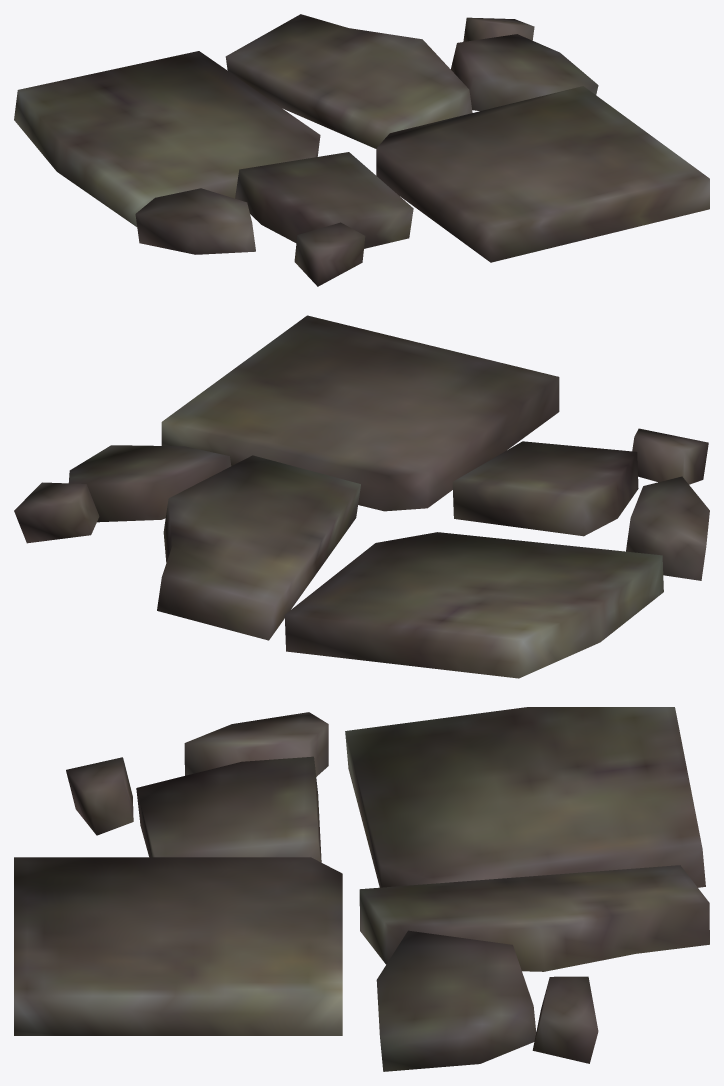
File: Rocks_306.FBX
3 renders of one model, top to bottom at view 1: azimuth 30°, elevation 25°; view 2: azimuth 150°, elevation 25°; view 3: azimuth 270°, elevation 25°, orthographic. The views are drawn at different scales.
Parts seen in each view (by area): view 1: Rocks_306; view 2: Rocks_306; view 3: Rocks_306.
Boxes of the visible parts, x1,y1,x2,y2 form: Rocks_306: (14, 14, 709, 286); Rocks_306: (14, 315, 709, 678); Rocks_306: (14, 707, 709, 1071).
Bounding box in the file's own units: 99.98 × 12.61 × 94.57.
